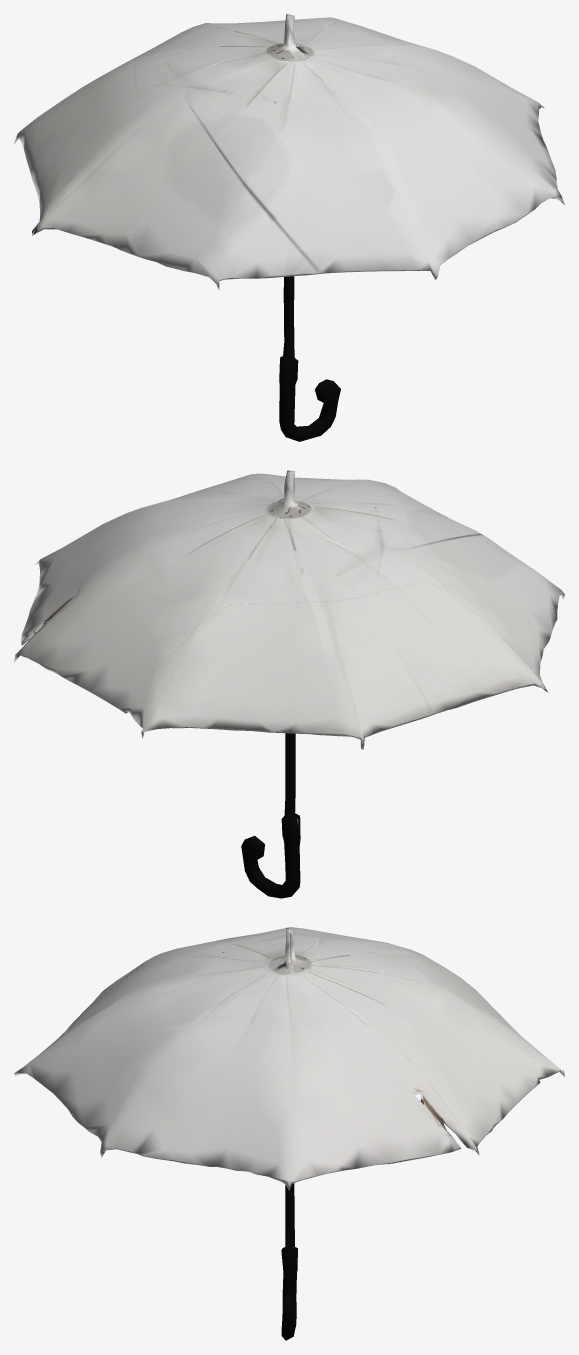
The model's file is un_paraguas_blanco_1027025223_texture.fbx.
3 renders of one model, top to bottom at view 1: azimuth 30°, elevation 25°; view 2: azimuth 150°, elevation 25°; view 3: azimuth 270°, elevation 25°, orthographic. The views are drawn at different scales.
Visible parts, largest first — view 1: Mesh_0; view 2: Mesh_0; view 3: Mesh_0.
Part boxes in pixels (<box>): Mesh_0: <box>14,14,564,441</box>; Mesh_0: <box>14,470,564,898</box>; Mesh_0: <box>14,927,564,1340</box>.
Bounding box in the file's own units: 200 × 159 × 199.
1 material, 1 textured.
